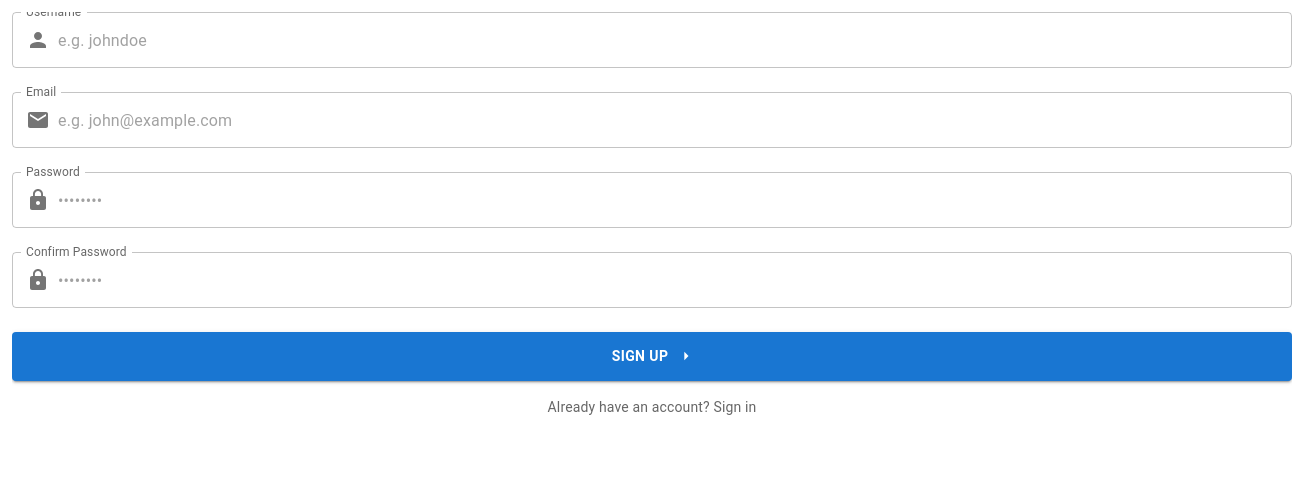
Scenario: components/SignupForm › Basic Functionality / Integration › shows error if confirm password does not match password
Type "password123" into the password field labelled "Password".
click(675, 200); type("password123")  # box [58,172,1292,228]
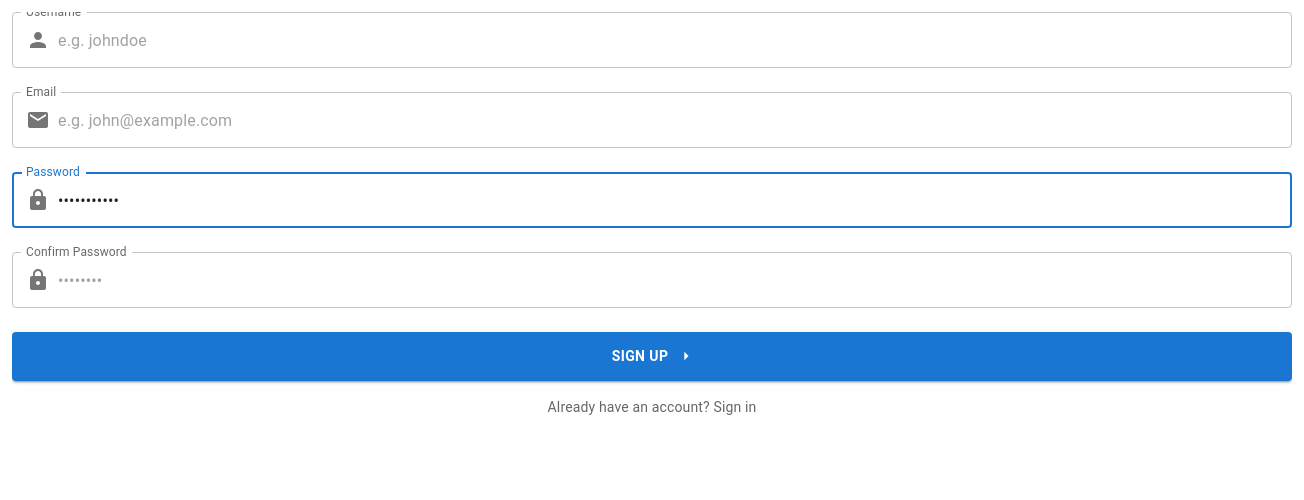
Type "mismatch" into the password field labelled "Confirm Password".
click(675, 280); type("mismatch")  # box [58,252,1292,308]
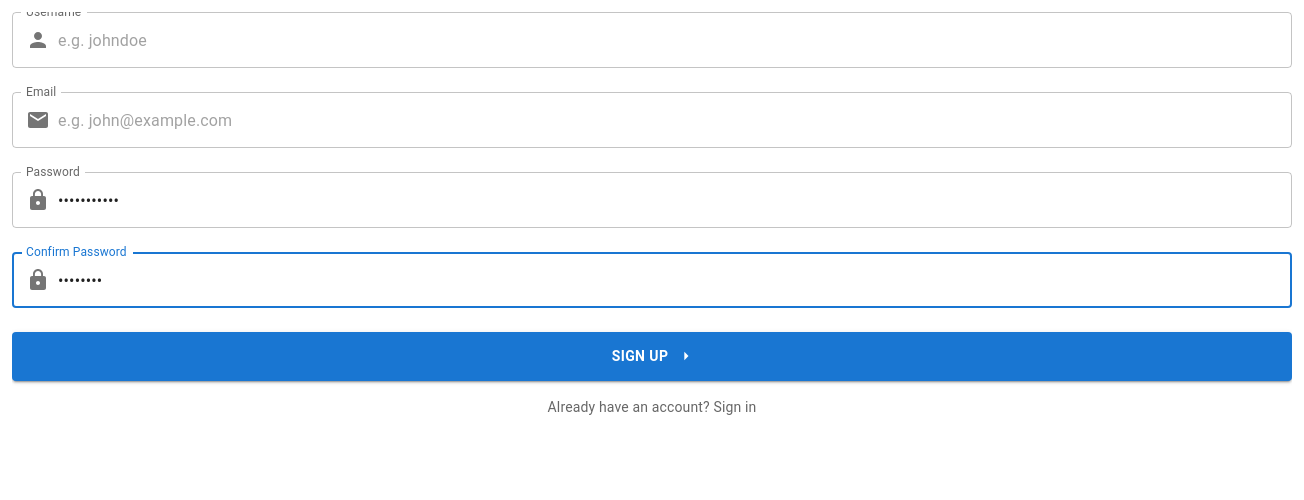
Click the button "Sign Up".
click(652, 356)  # box [12,332,1292,380]
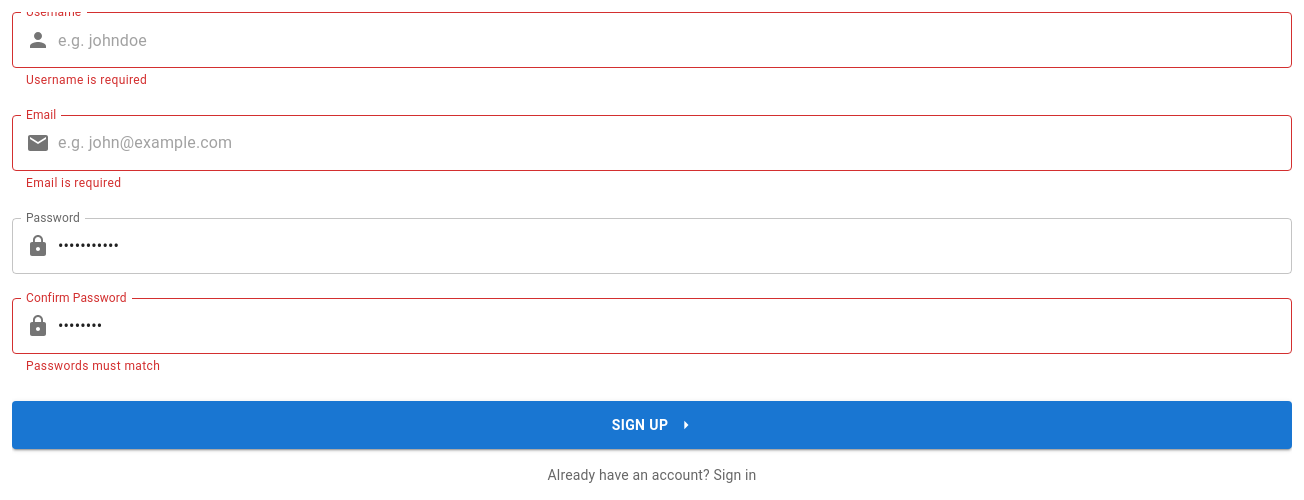
Result: the text "Passwords must match" is shown at [26,359,160,373]
